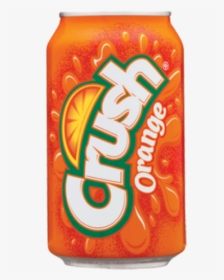can: (45, 11, 188, 268)
